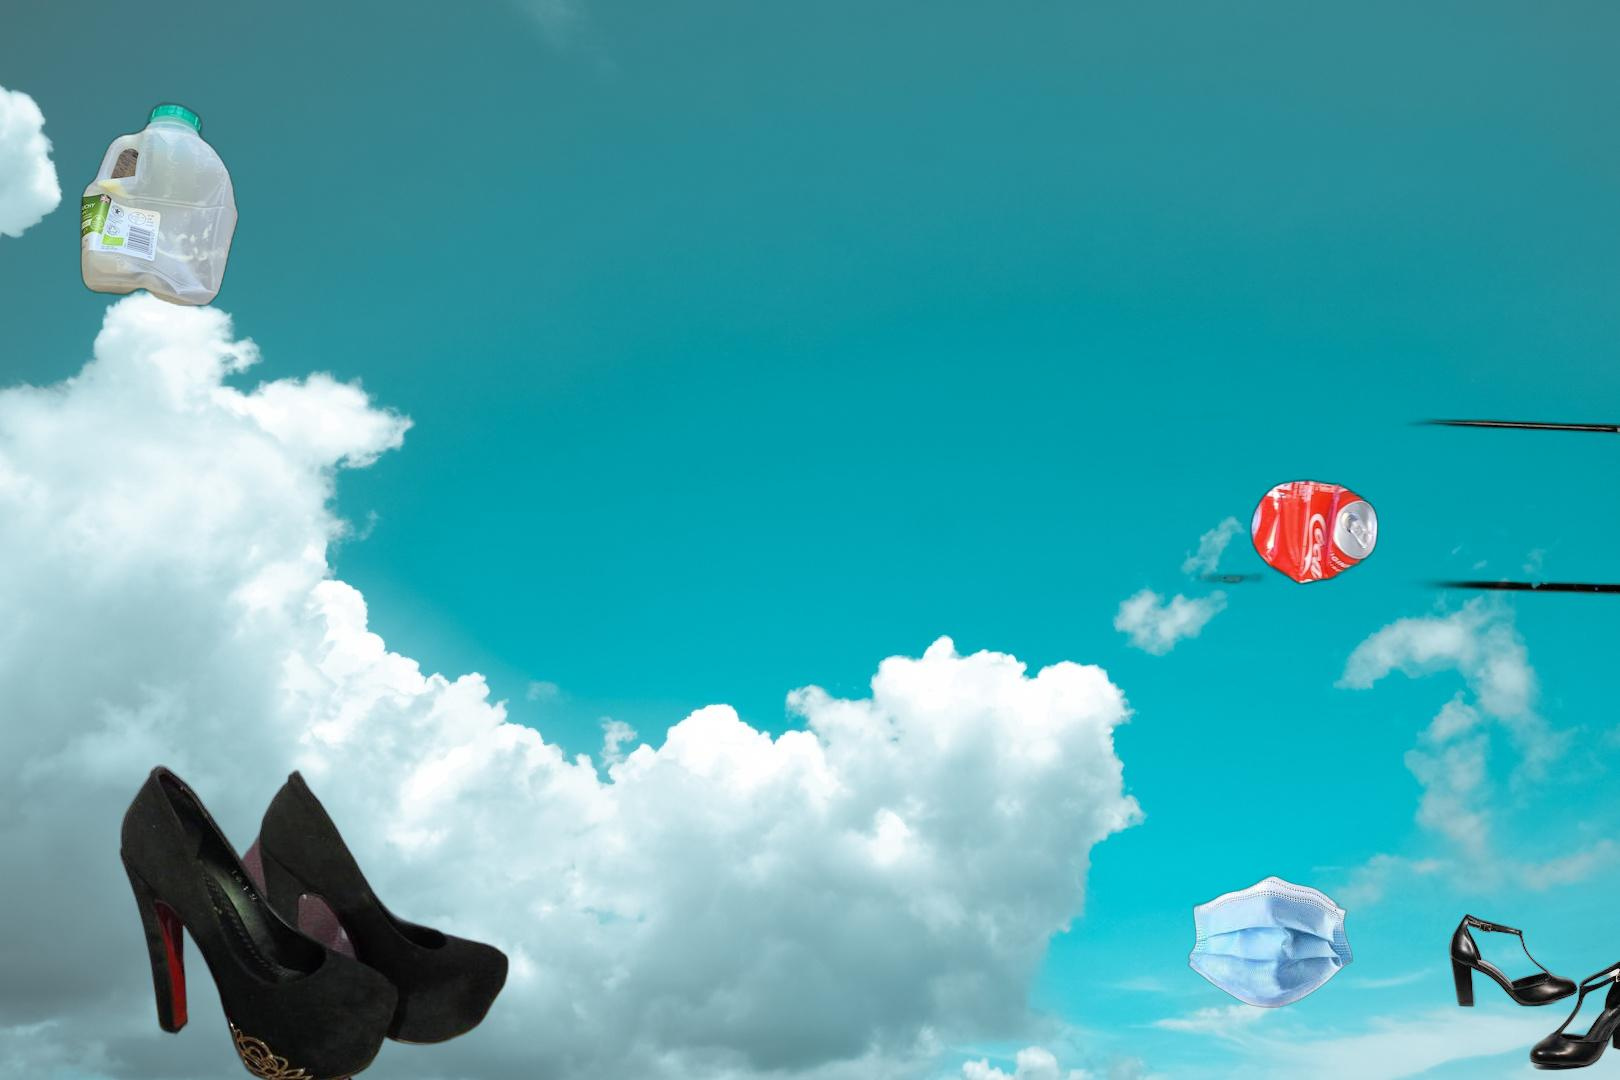biological: (40, 1041, 358, 1080)
metal-cans: (1152, 334, 1620, 712)
paper: (1619, 1006, 1620, 1080)
plastic-bottles: (76, 98, 243, 312)
shoes: (116, 761, 512, 1080), (1446, 911, 1620, 1073)
trash: (1186, 873, 1355, 1010)
